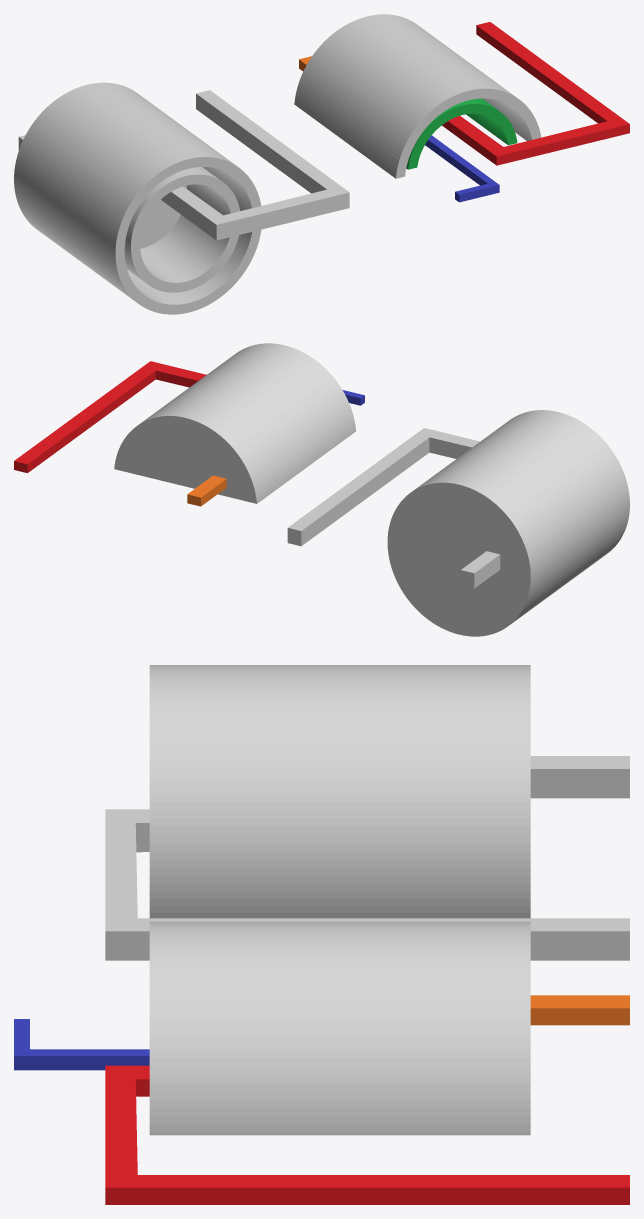
Rendered from two_stakan_with_water.obj.
3 views of the same model, one above another, from view 1: azimuth 30°, elevation 25°; view 2: azimuth 150°, elevation 25°; view 3: azimuth 270°, elevation 25° (orthographic). The views are drawn at different scales.
Parts seen in each view (by area): view 1: Object.1, Object.5, Object.2, Object.3, Object.7, Object.8, Object.9; view 2: Object.1, Object.5, Object.3, Object.7, Object.4, Object.6; view 3: Object.1, Object.5, Object.7, Object.3, Object.4, Object.9, Object.6.
Part boxes in pixels (x1=…): Object.1: x1=14, y1=82, x2=261, y2=314; Object.5: x1=294, y1=14, x2=541, y2=178; Object.2: x1=124, y1=167, x2=239, y2=292; Object.3: x1=161, y1=90, x2=349, y2=240; Object.7: x1=442, y1=22, x2=629, y2=165; Object.8: x1=406, y1=98, x2=517, y2=169; Object.9: x1=425, y1=135, x2=499, y2=202; Object.1: x1=387, y1=410, x2=629, y2=636; Object.5: x1=114, y1=343, x2=355, y2=503; Object.3: x1=287, y1=428, x2=479, y2=546; Object.7: x1=14, y1=361, x2=206, y2=472; Object.4: x1=460, y1=551, x2=500, y2=588; Object.6: x1=187, y1=475, x2=226, y2=506; Object.1: x1=149, y1=665, x2=530, y2=918; Object.5: x1=149, y1=921, x2=530, y2=1135; Object.7: x1=105, y1=1065, x2=629, y2=1204; Object.3: x1=105, y1=809, x2=629, y2=960; Object.4: x1=530, y1=756, x2=629, y2=798; Object.9: x1=14, y1=1019, x2=149, y2=1070; Object.6: x1=530, y1=995, x2=629, y2=1025.
Bounding box in the file's own units: 137 × 40 × 77.51.
